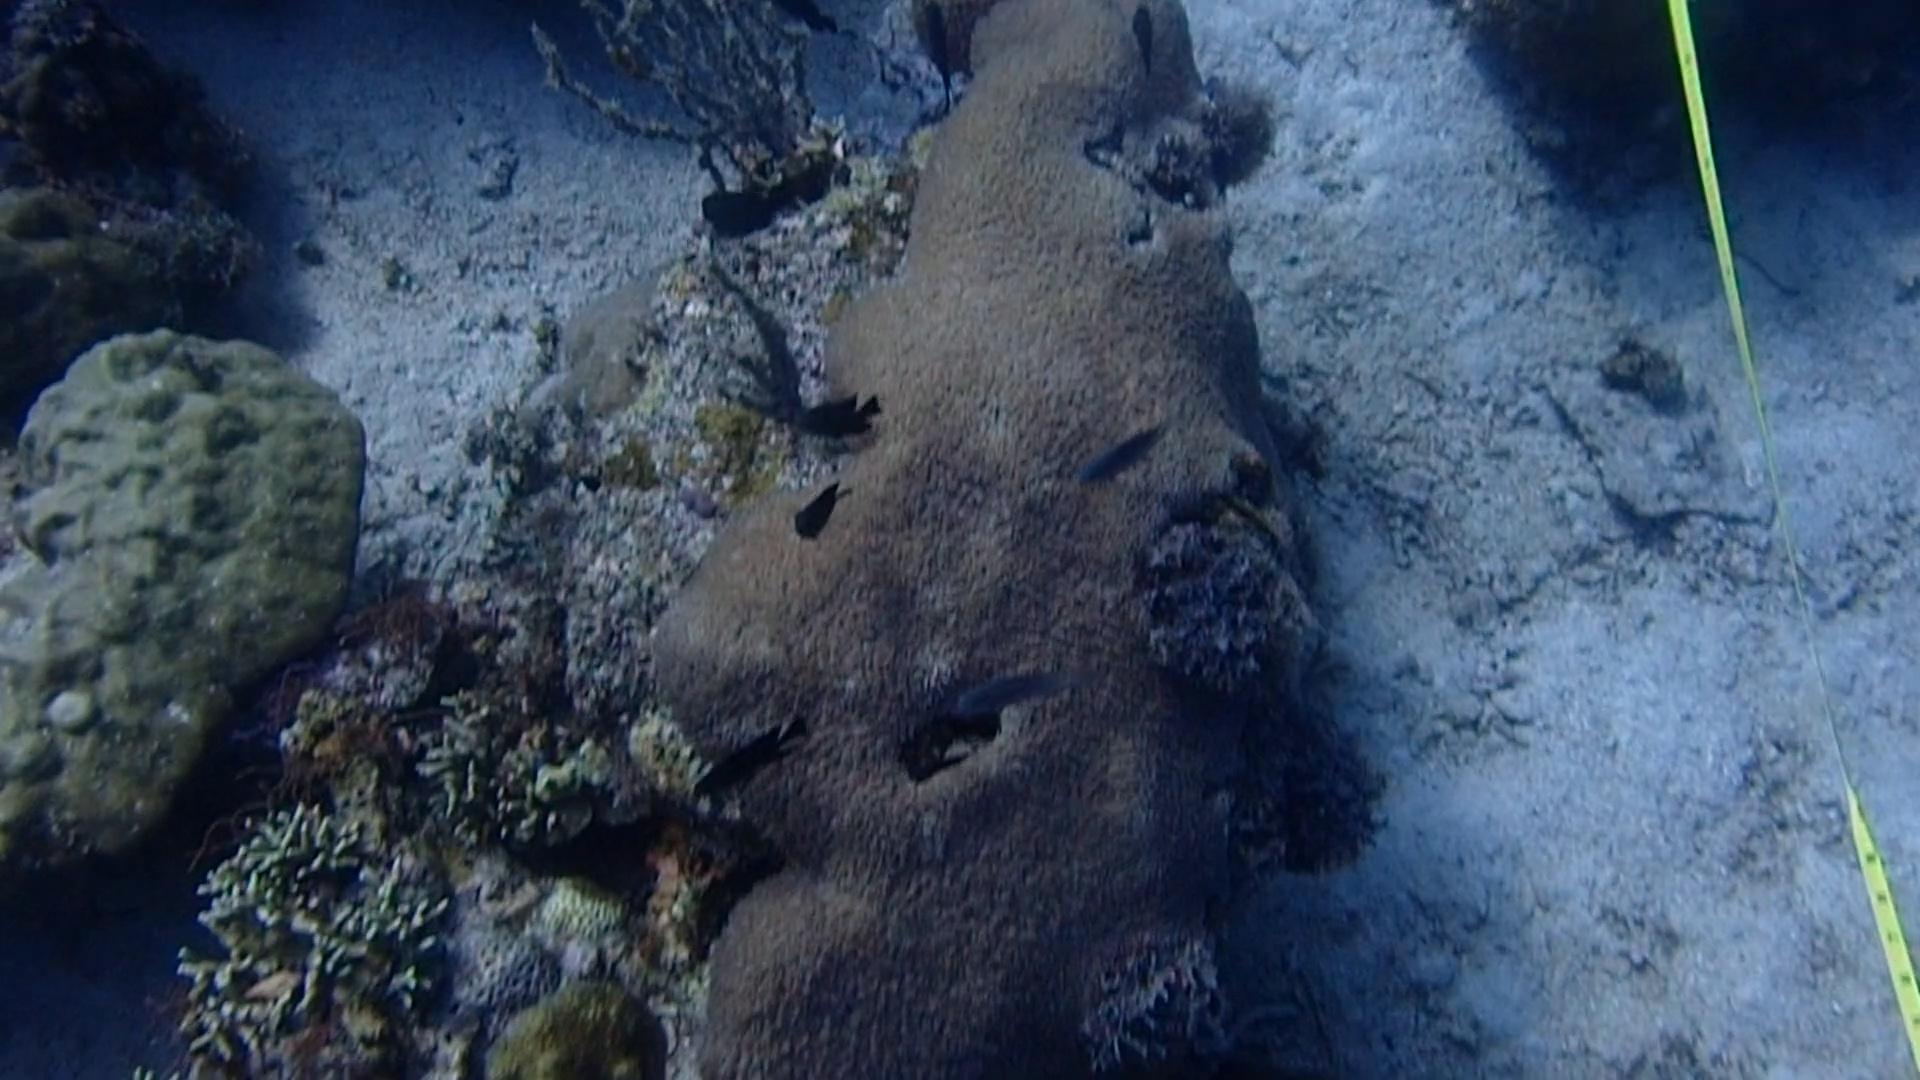Dark Fish: (690, 713, 816, 808), (796, 384, 886, 443), (785, 475, 847, 555), (915, 0, 967, 91), (1125, 3, 1179, 75)
Light Fish: (1075, 409, 1174, 495), (947, 662, 1079, 725)
